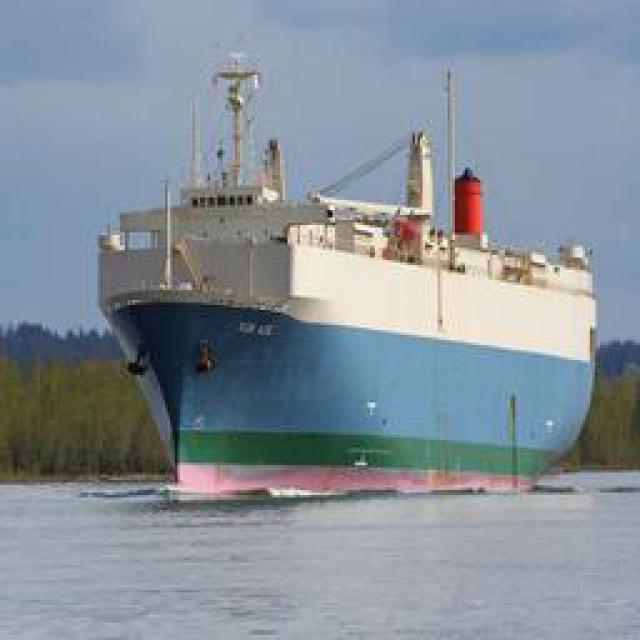Ship: (90, 45, 600, 493)
